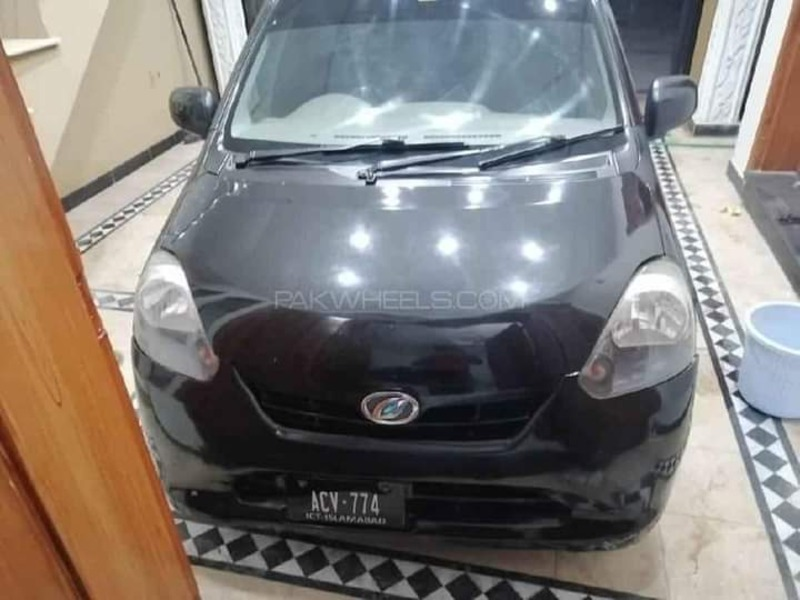License Plate: (275, 468, 410, 534)
